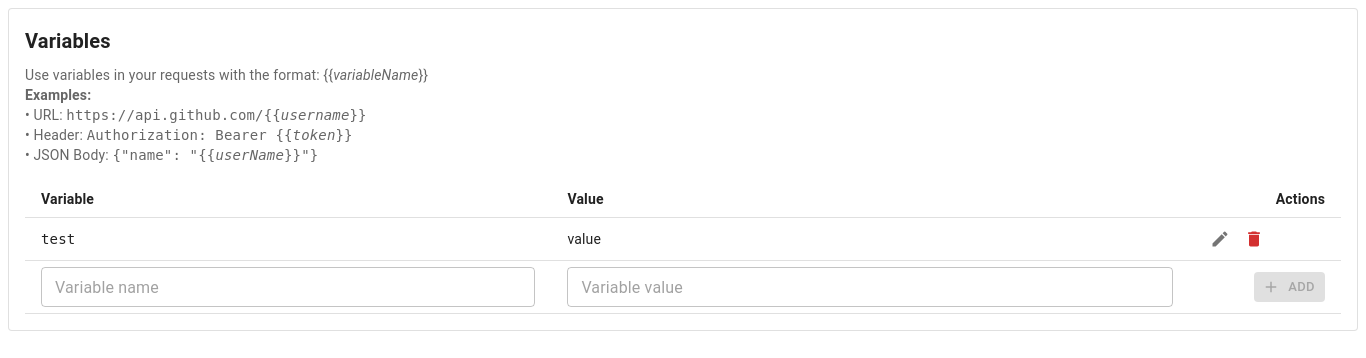
it: ExistingVariables › should cancel edit and exit edit mode
The width and height of the screenshot is (1366, 358).
Click the button titled "Edit": (1220, 239) [1205, 224, 1235, 254]
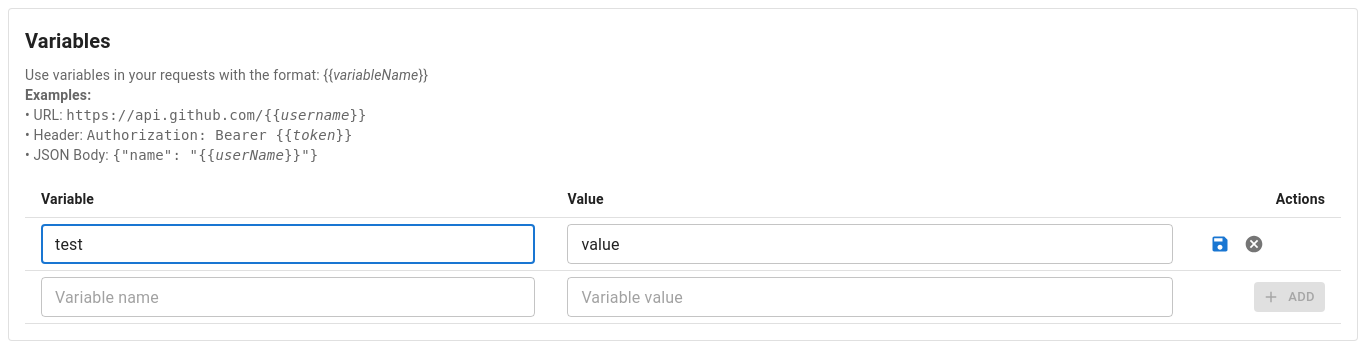
Click the button titled "Cancel": (1254, 244) [1239, 229, 1269, 259]
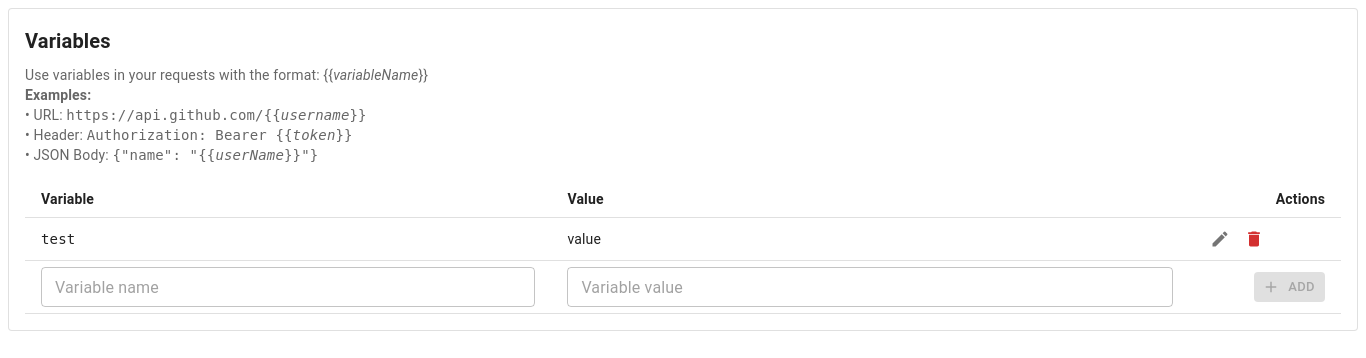
Expected: the button titled "Edit" is shown, [1205, 224, 1235, 254]
Expected: the button titled "Delete" is shown, [1239, 224, 1269, 254]
